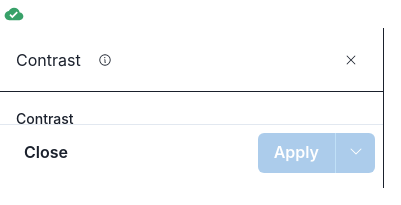
Test case: TemplateStatus › editing an existing transformation flips status to unsaved immediately (before Apply/Save)
Expected: the picture named "template-status-saved" is shown, [4, 4, 24, 24]
Note: Toggle the existing transformation switch (should dirty the RHF form).
Click the checkbox labelled "Contrast". click: (45, 118)
box: [16, 110, 74, 127]
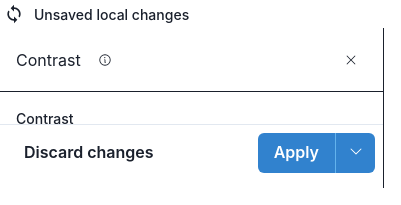
Now the picture named "template-status-unsaved" is shown, box [4, 4, 24, 24]
